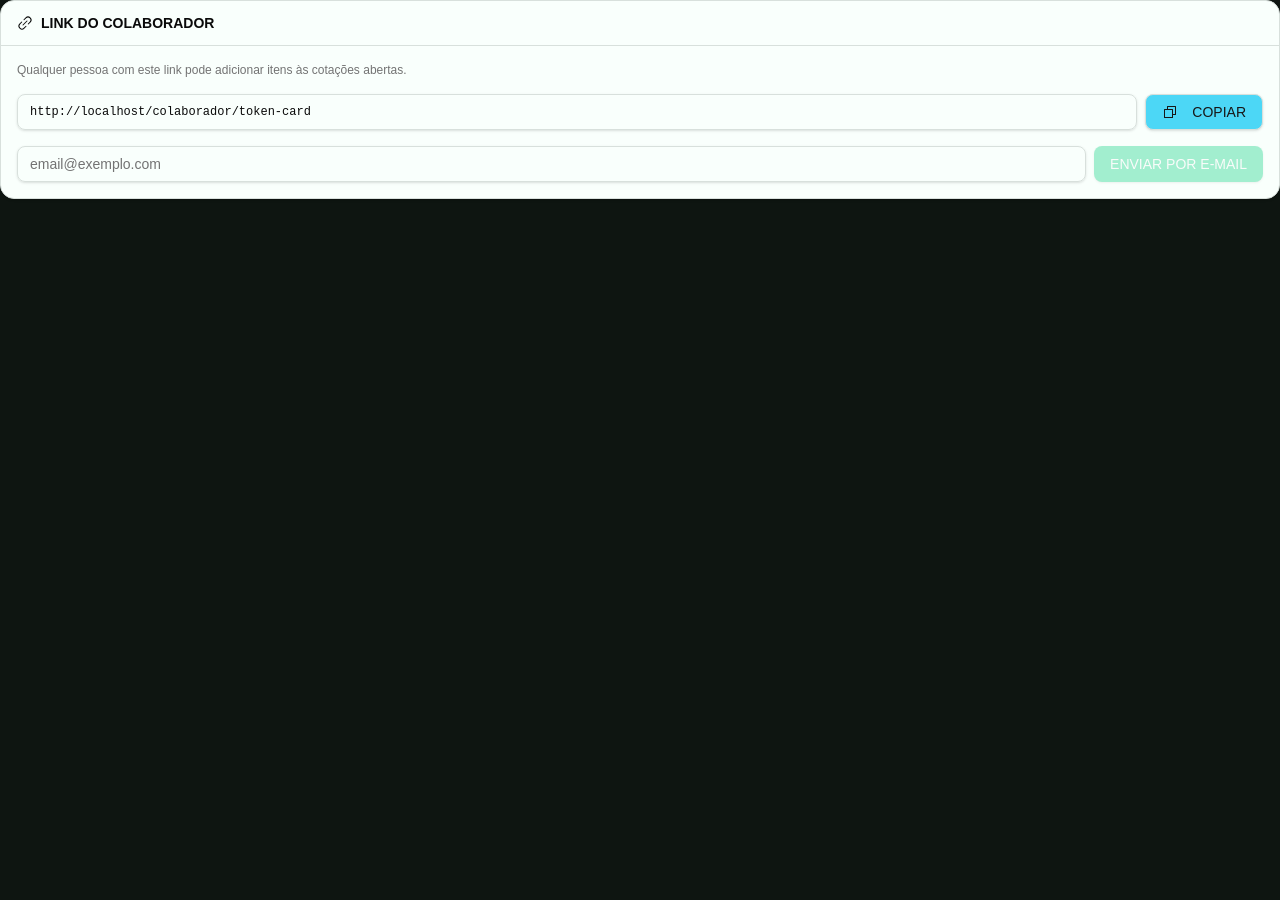
erro da API exibe ApiError.message
Expected: the field named "Link do colaborador" is shown, [17,94,1137,130]
In the field named "E-mail para enviar o link": point(552, 164) [17,146,1086,182], type "comprador@loja.com"
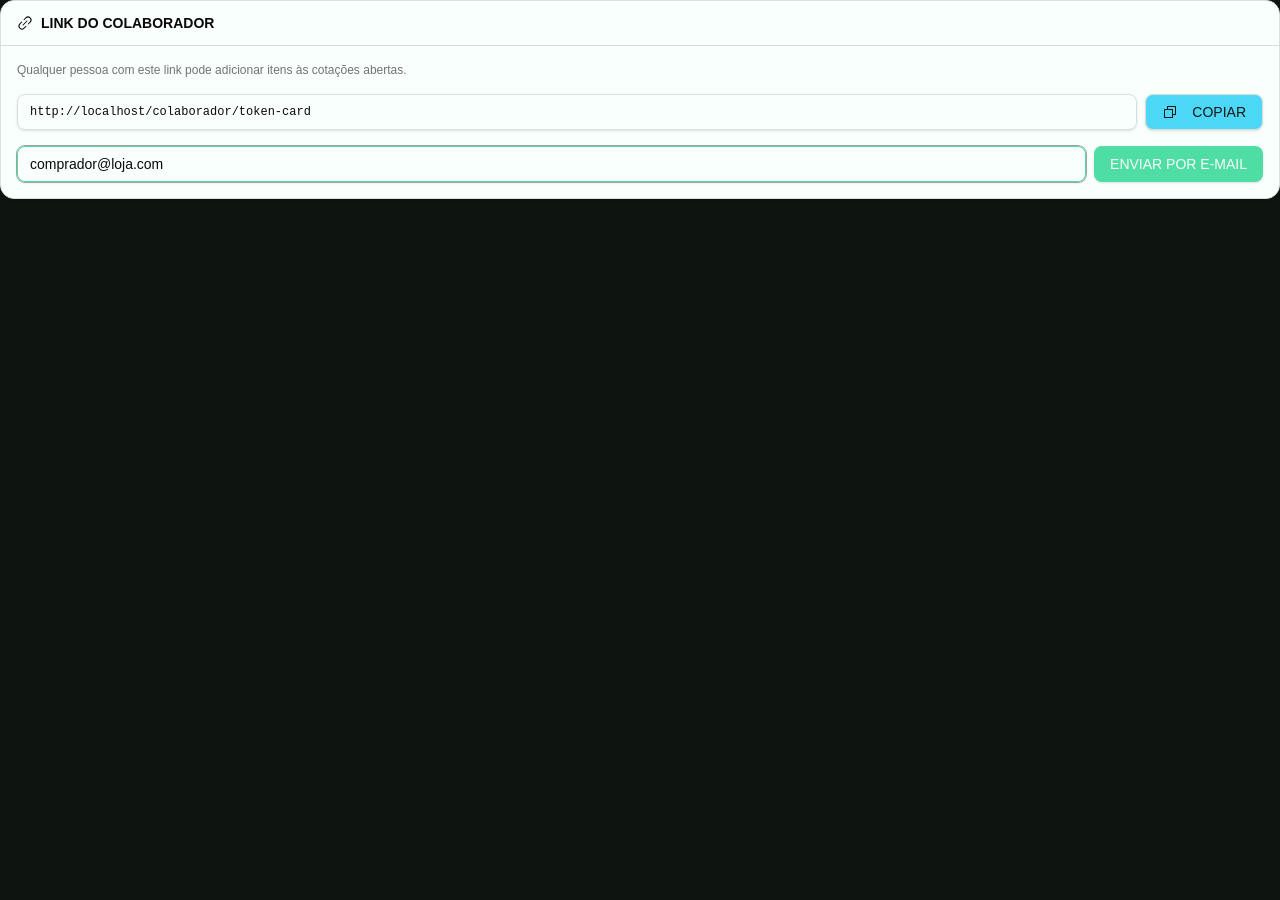
Click the button "Enviar por e-mail": point(1179, 164) [1094,146,1263,182]
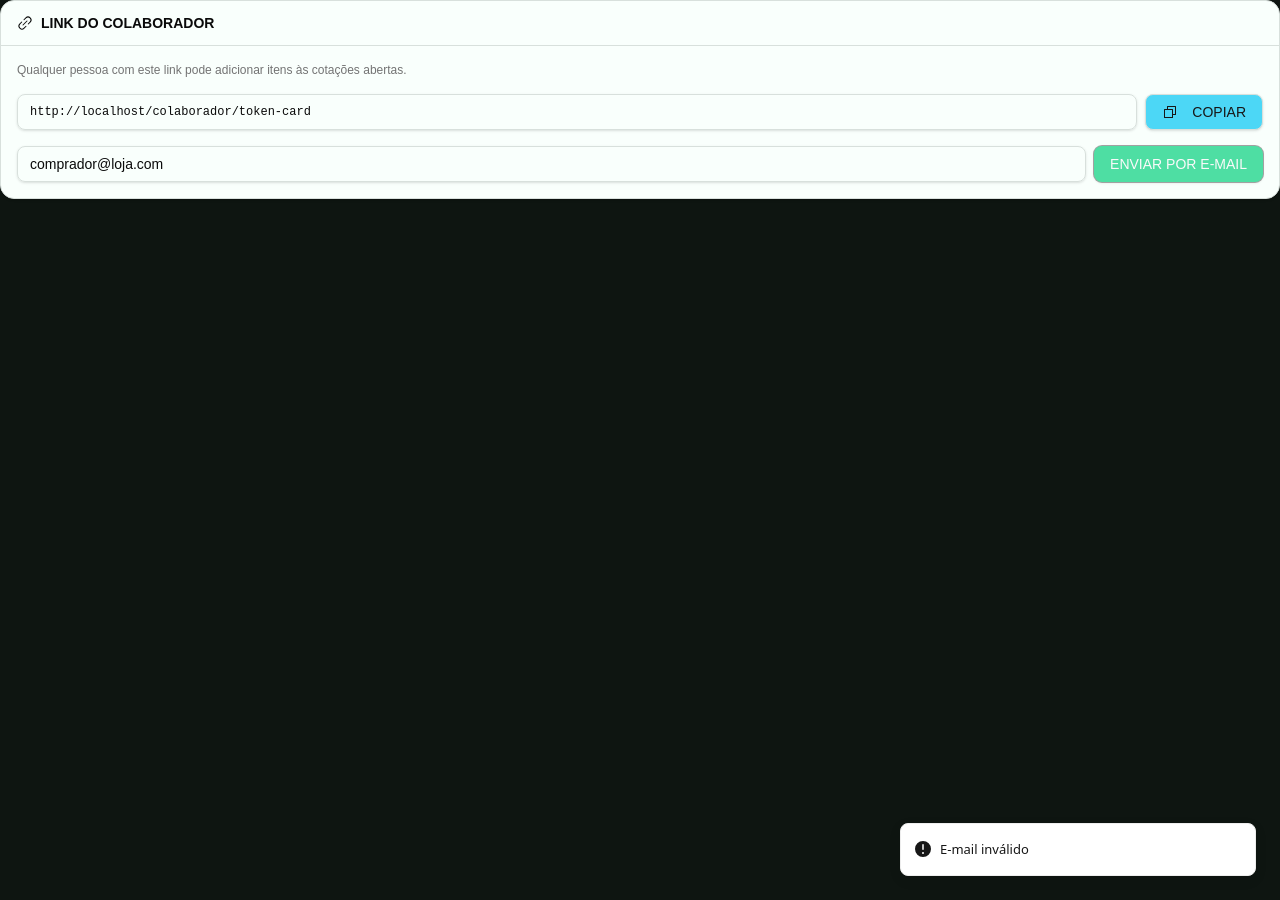
Expected: the text "E-mail inválido" is shown, [940,840,1029,859]
